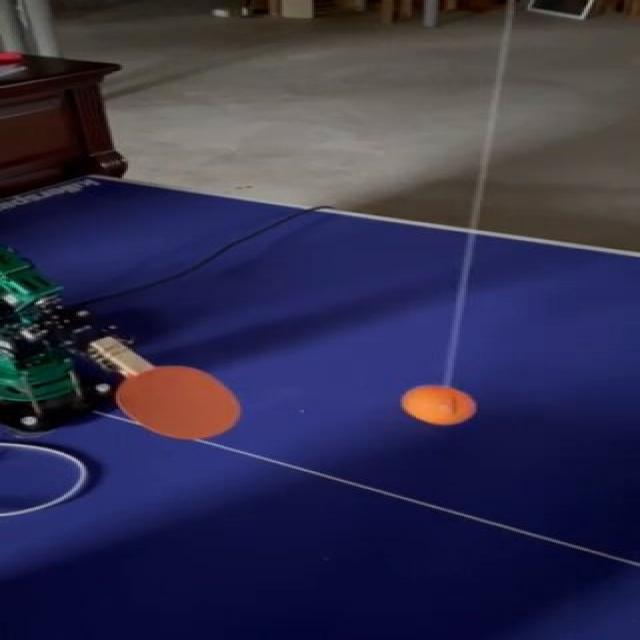ping-pong-ball: (400, 382, 482, 425)
